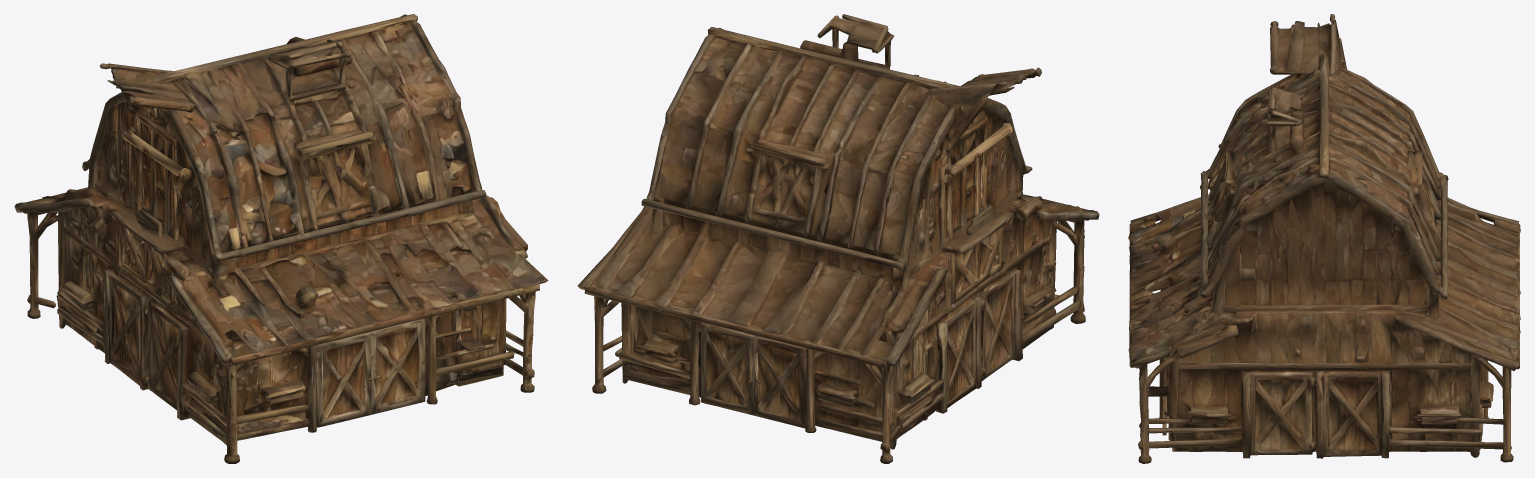
Rendered from bld_west_barn.fbx.
3 renders of one model, left to right at view 1: azimuth 30°, elevation 25°; view 2: azimuth 150°, elevation 25°; view 3: azimuth 270°, elevation 25°, orthographic. The views are drawn at different scales.
Visible parts, largest first — view 1: bld_west_barn_LOD0; view 2: bld_west_barn_LOD0; view 3: bld_west_barn_LOD0.
Part boxes in pixels (x1,y1,x2,y2): bld_west_barn_LOD0: (14,14,548,463); bld_west_barn_LOD0: (577,14,1099,463); bld_west_barn_LOD0: (1128,14,1520,463).
Size of what is drawn, in the model's own units: 0.9212 by 0.8368 by 0.9812.
